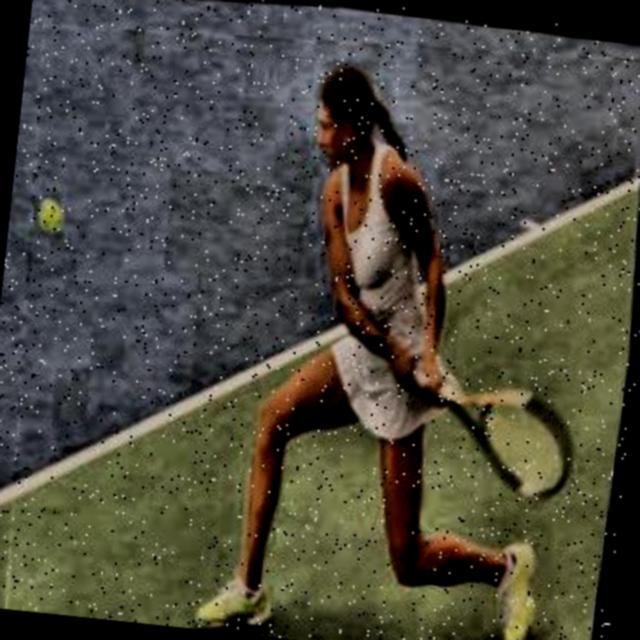tennis-ball: (36, 198, 69, 231)
